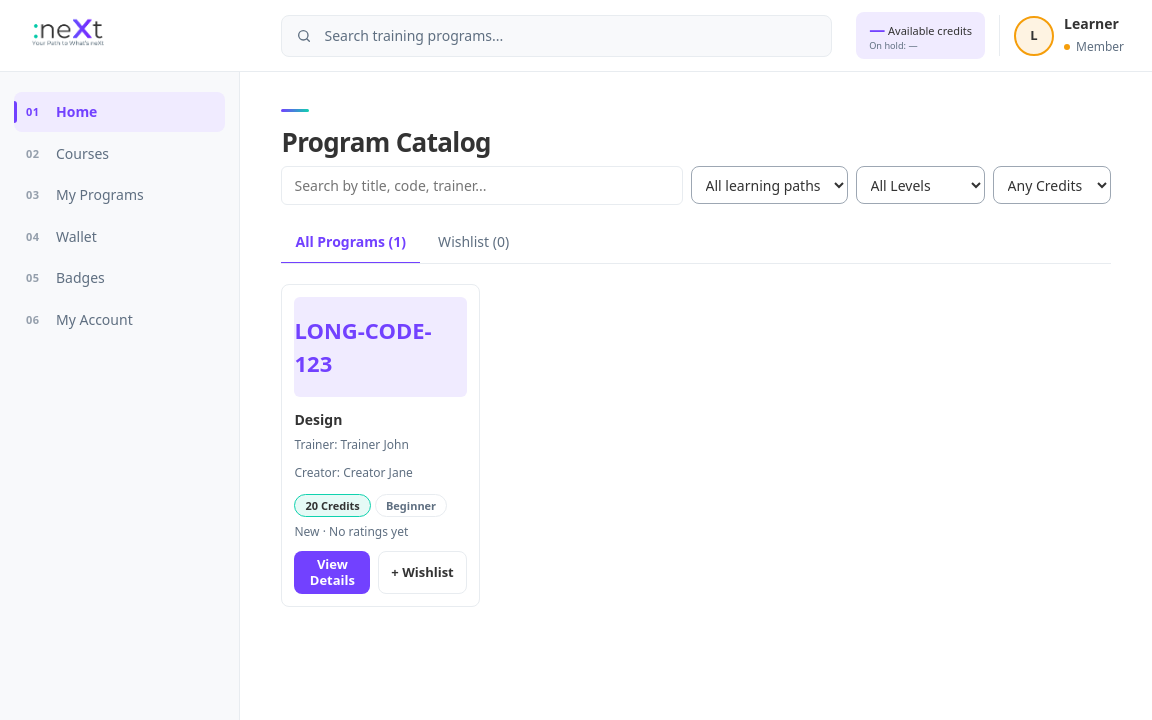
Test: explains a filtered empty catalog and restores the results after clearing
In the search field with placeholder "Search by title, code, trainer...": (482, 185) [282,166,683,205], type "absent"
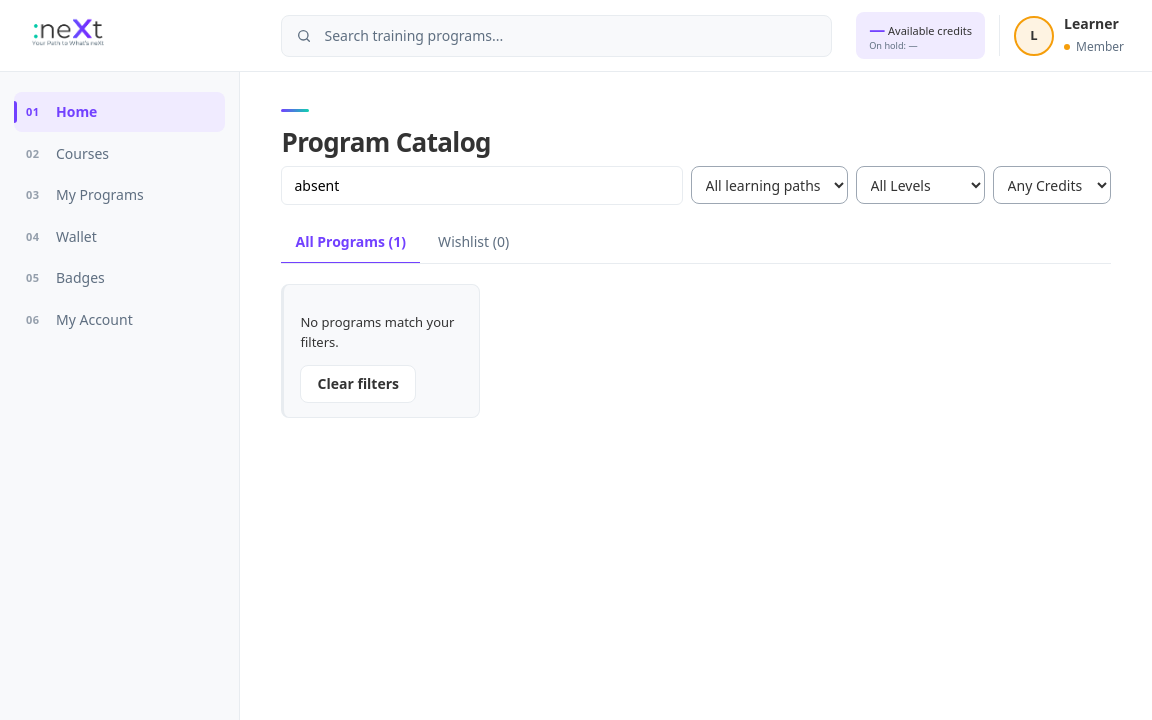
Now the text "No programs match your filters." is shown, box [300,312,463,352]
Click the button "Clear filters": click(358, 384) [300,365,416,403]
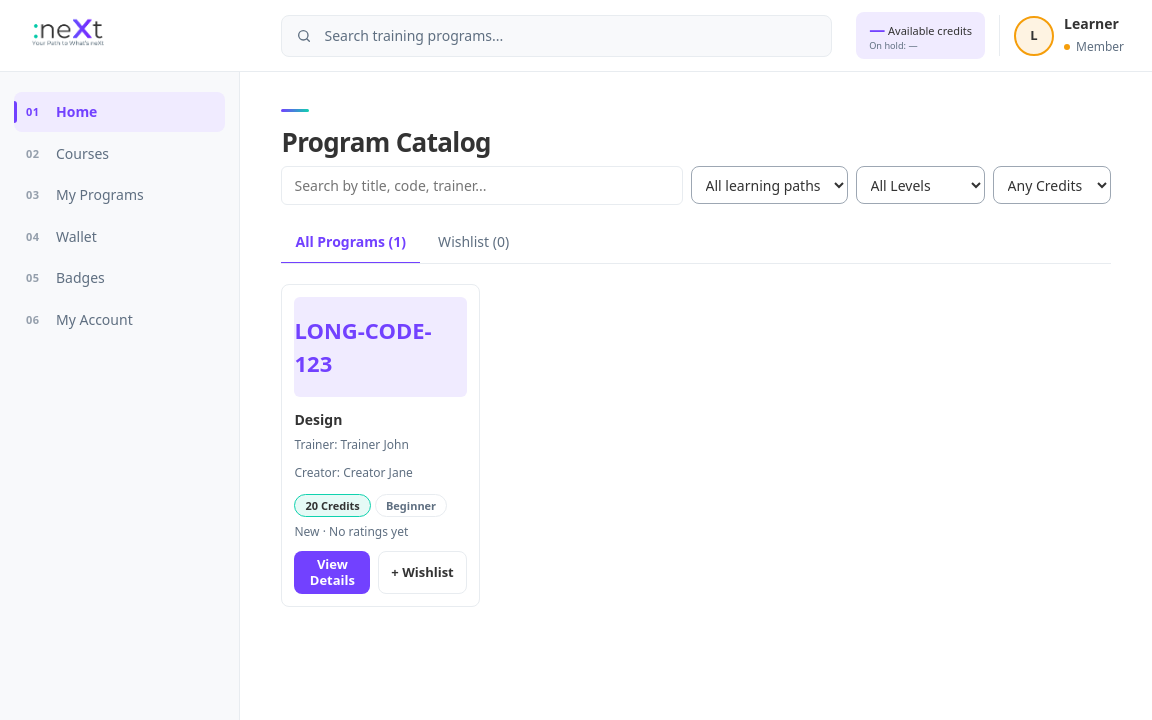
Now the heading "Design" is shown, box [294,410,342,429]
